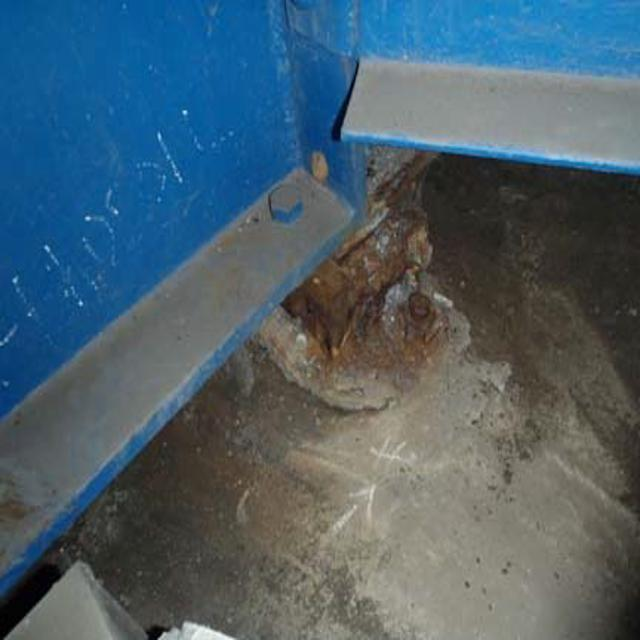corrosion: (290, 150, 454, 381)
